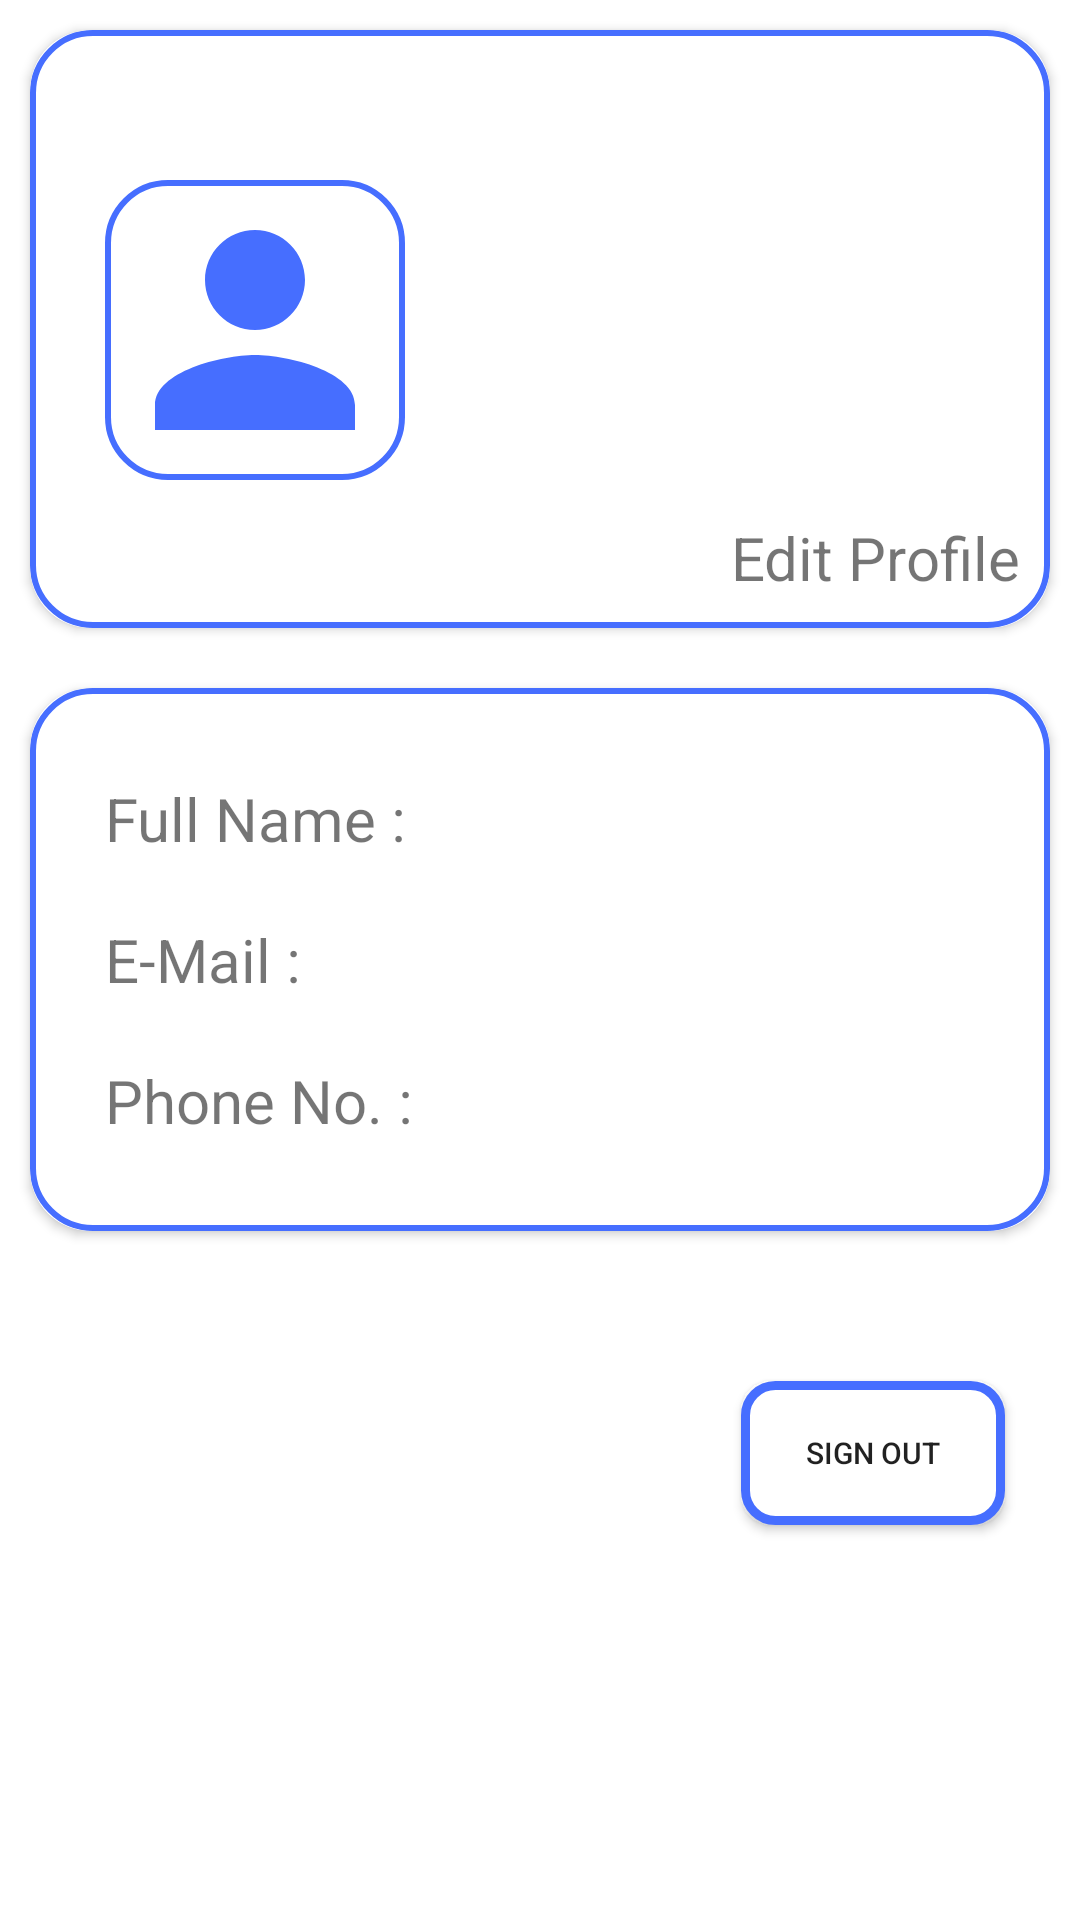

Screen size 1080x1920. Icon name, then its center in pixels as (x=x, y=y):
person: (x=255, y=330)
